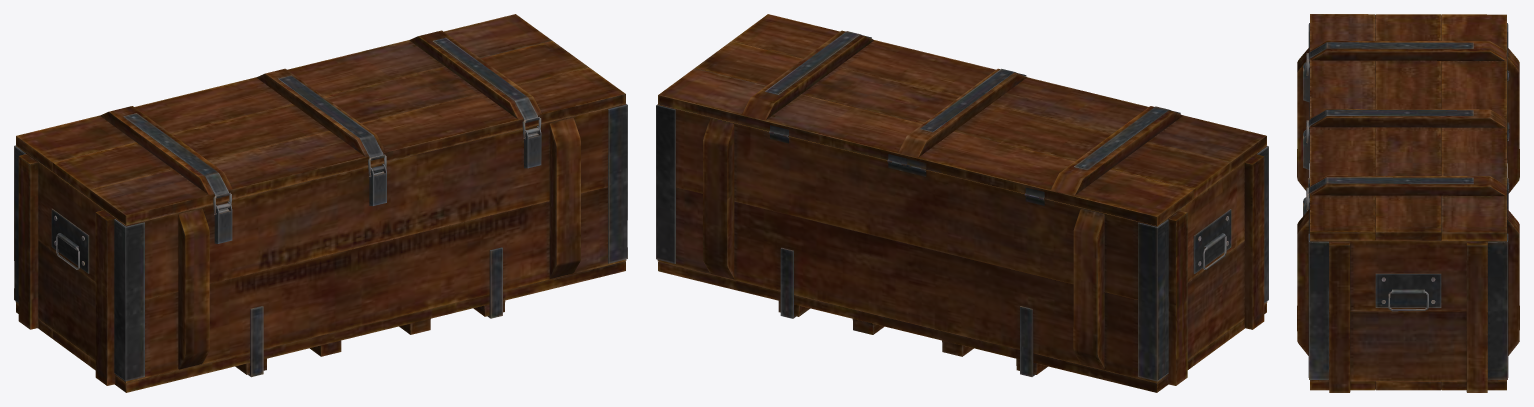
The model's file is mcrate.glb.
3 renders of one model, left to right at view 1: azimuth 30°, elevation 25°; view 2: azimuth 150°, elevation 25°; view 3: azimuth 270°, elevation 25°, orthographic. The views are drawn at different scales.
Visible parts, largest first — view 1: wooden_military_crate; view 2: wooden_military_crate; view 3: wooden_military_crate.
Part boxes in pixels (x1=…): wooden_military_crate: x1=14, y1=14, x2=627, y2=392; wooden_military_crate: x1=656, y1=14, x2=1268, y2=392; wooden_military_crate: x1=1297, y1=14, x2=1519, y2=392.
Size of the model in its own units: 1.24 by 0.4642 by 0.5185.
Materials: 1 (1 with a texture image).
